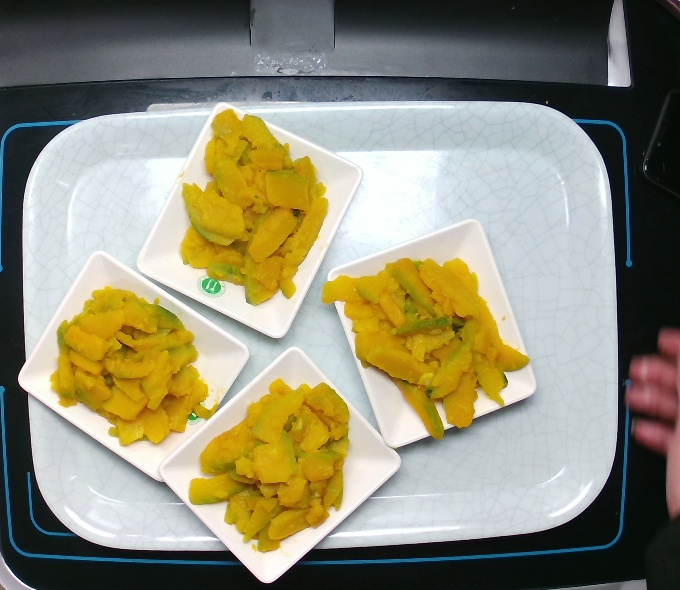wcq-NanGuaPian: (314, 249, 539, 444), (145, 101, 339, 308), (188, 377, 361, 557), (38, 285, 217, 453)
